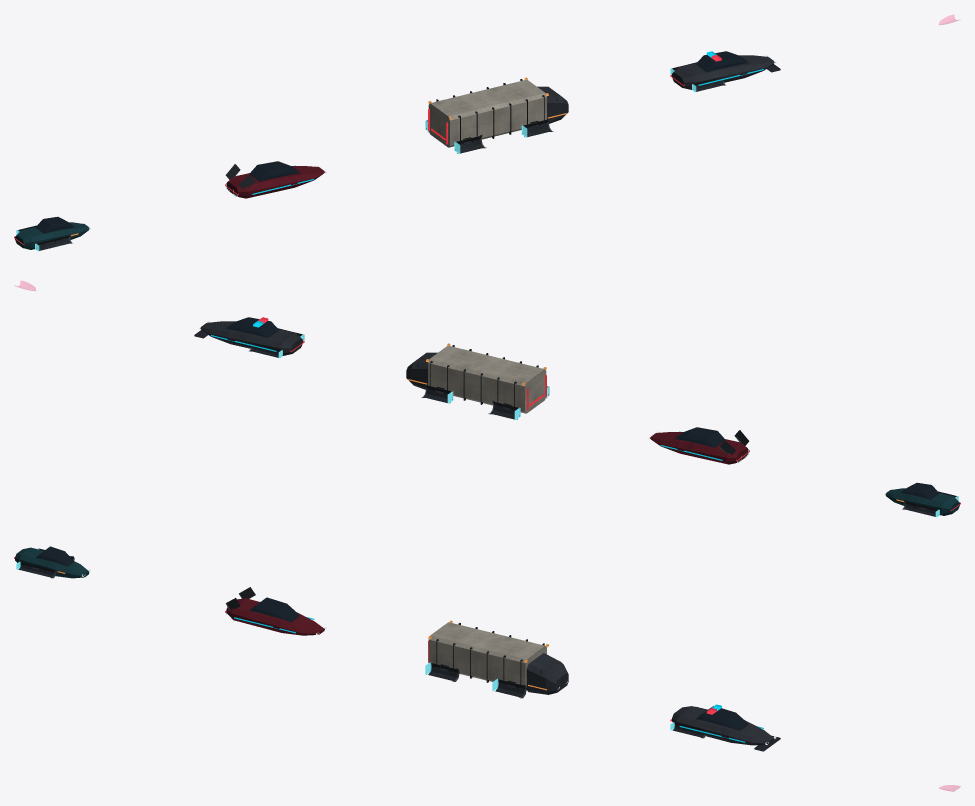
The model's file is props.glb.
The picture shows the model from 3 angles, top to bottom: view 1: azimuth 30°, elevation 25°; view 2: azimuth 150°, elevation 25°; view 3: azimuth 330°, elevation 25°; orthographic projection.
Visible parts, largest first — view 1: VEH-03, VEH-04, VEH-02, VEH-01; view 2: VEH-03, VEH-04, VEH-02, VEH-01; view 3: VEH-03, VEH-04, VEH-02, VEH-01.
Part boxes in pixels (left/top/right/bottom): VEH-03: left=425, top=77, right=568, bottom=154; VEH-04: left=670, top=51, right=780, bottom=92; VEH-02: left=225, top=161, right=326, bottom=198; VEH-01: left=14, top=216, right=90, bottom=251; VEH-03: left=406, top=343, right=549, bottom=420; VEH-04: left=194, top=317, right=304, bottom=358; VEH-02: left=648, top=427, right=749, bottom=464; VEH-01: left=884, top=482, right=960, bottom=517; VEH-03: left=425, top=620, right=568, bottom=698; VEH-04: left=670, top=704, right=780, bottom=751; VEH-02: left=225, top=587, right=326, bottom=635; VEH-01: left=14, top=546, right=90, bottom=578.
Bounding box in the file's own units: 50.34 × 1.92 × 3.37.
13 materials, 13 textured.
